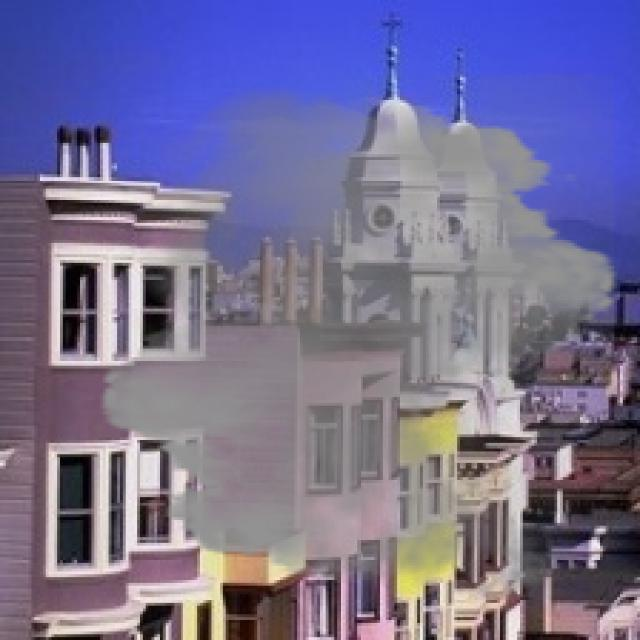smoke: (83, 74, 634, 620)
